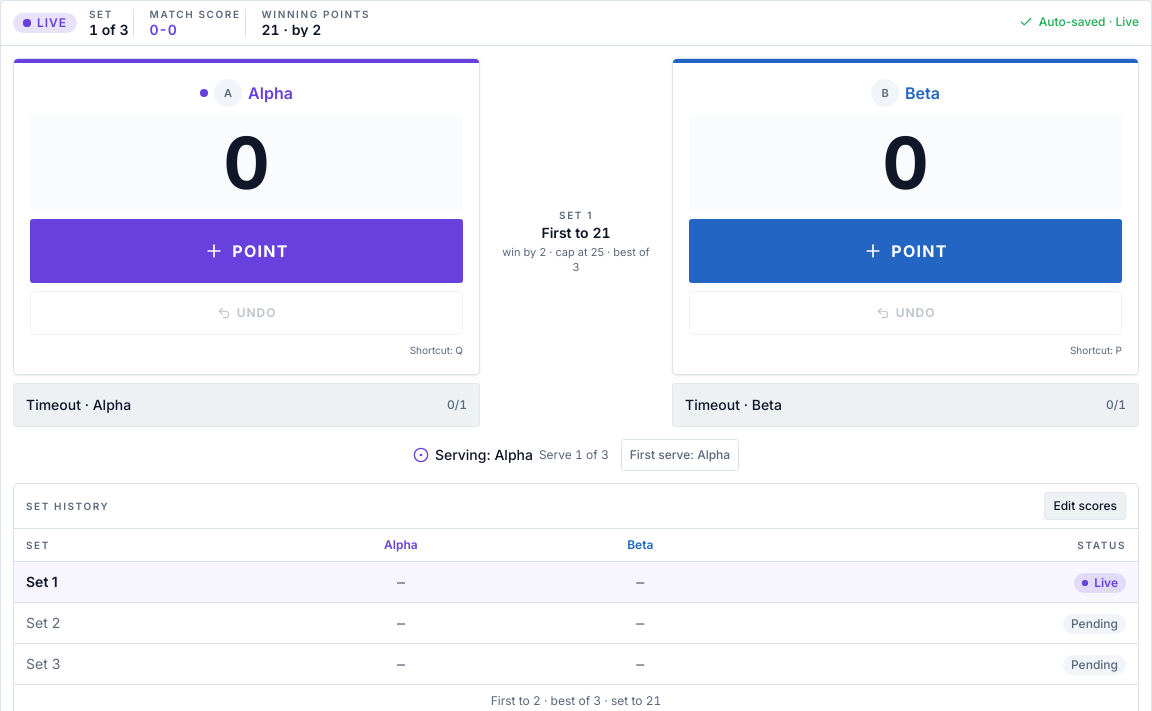
Test case: SepakConsole › skipping the reason logs nothing extra
The image size is (1152, 711).
Click the button with test id "point-away". click: (906, 251)
box: [689,219,1122,283]
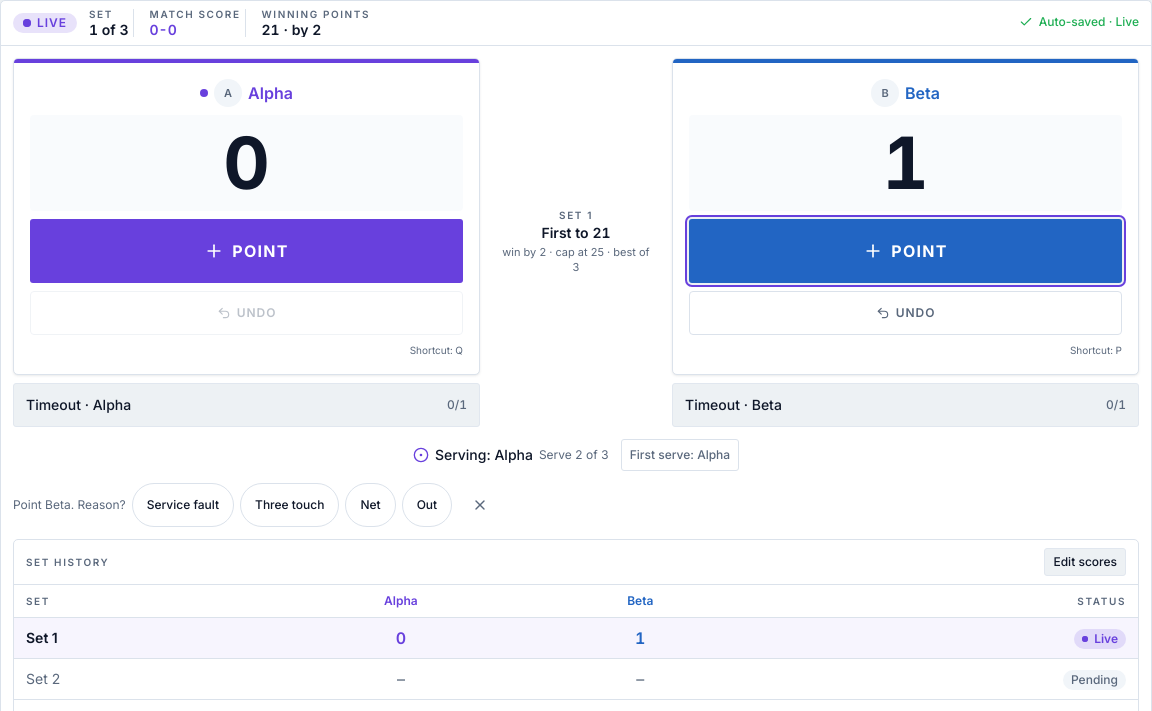
expect the text with test id "points-away" reads "1": met, box [882,119,929,206]
Click the button named "skip reason". click: (480, 505)
box: [458,483,502,527]
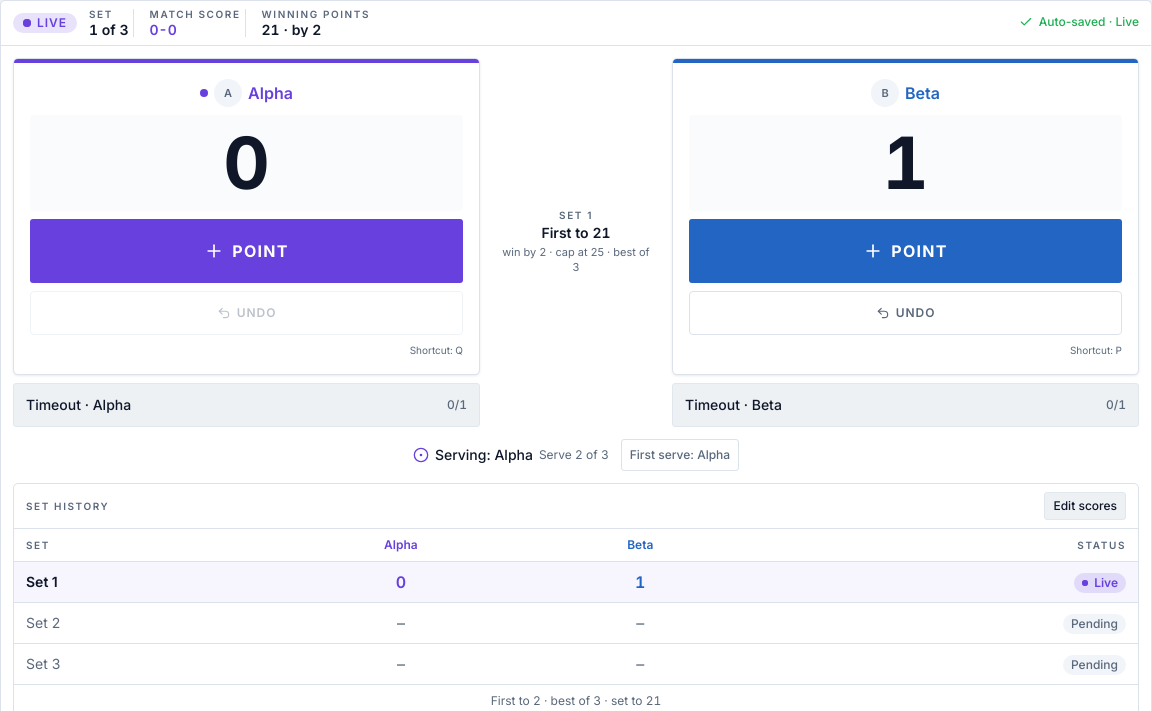
expect the button with test id "reason-net" is gone: met
